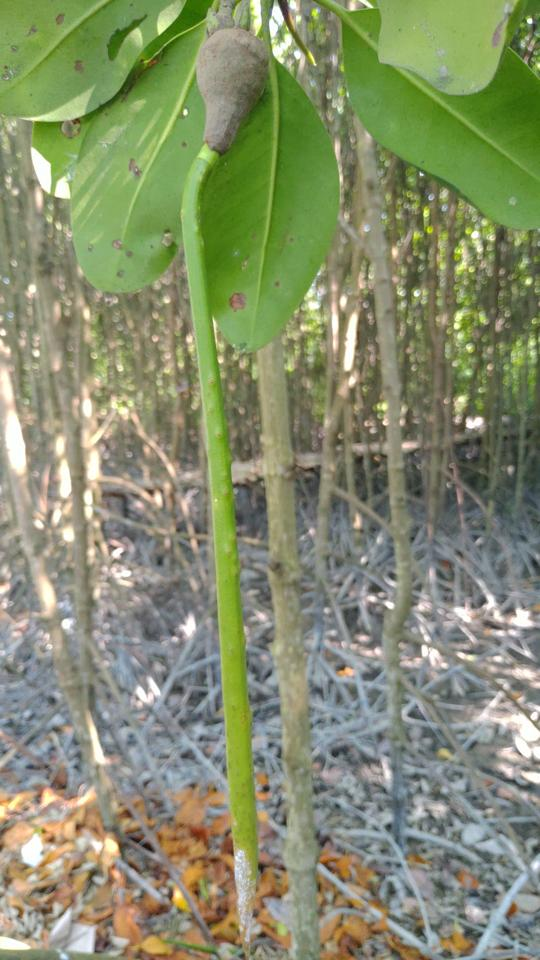setengah matang: (169, 11, 291, 945)
